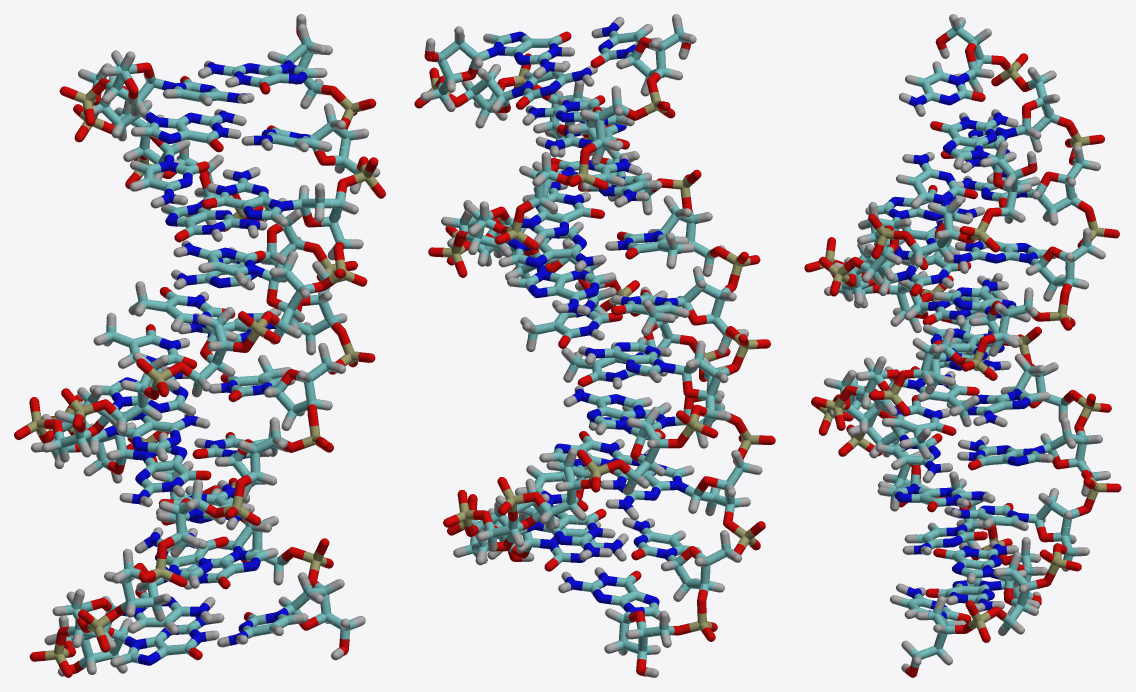
The model's file is b-dna.gltf.
The picture shows the model from 3 angles, left to right: view 1: azimuth 30°, elevation 25°; view 2: azimuth 150°, elevation 25°; view 3: azimuth 270°, elevation 25°; orthographic projection. The views are drawn at different scales.
Visible parts, largest first — view 1: vmd_mol1_rep0; view 2: vmd_mol1_rep0; view 3: vmd_mol1_rep0.
Boxes of the visible parts, box(x1,y1,x2,y2) form: vmd_mol1_rep0: box(14, 14, 385, 677); vmd_mol1_rep0: box(414, 14, 775, 677); vmd_mol1_rep0: box(804, 14, 1121, 677).
Bounding box in the file's own units: 1.42 × 2.68 × 1.29.
